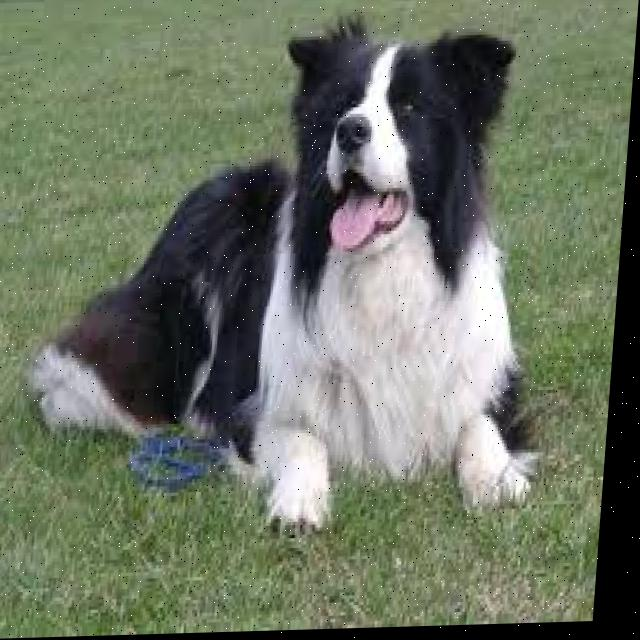BORDER_COLLIE: (29, 17, 584, 552)
